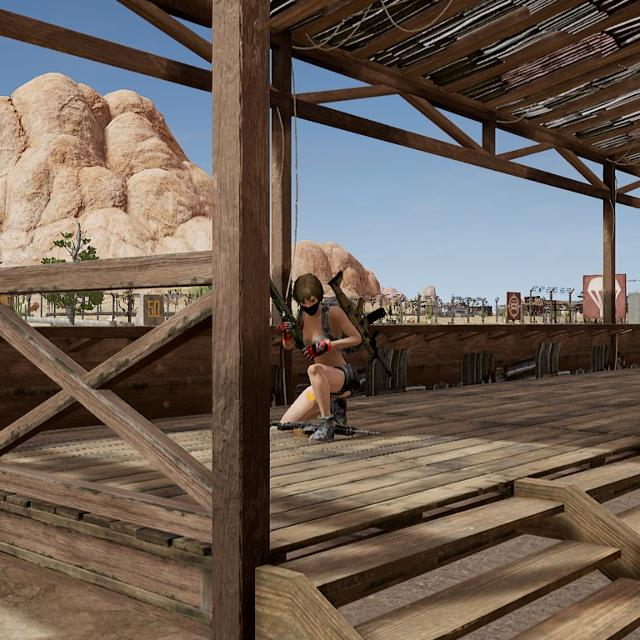head: (289, 273, 325, 321)
people: (276, 269, 374, 449)
